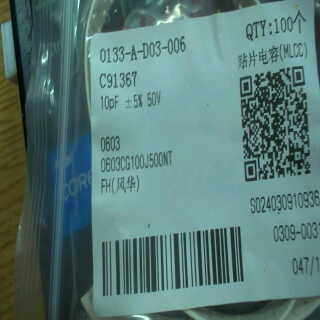10pF: (98, 92, 123, 114)
